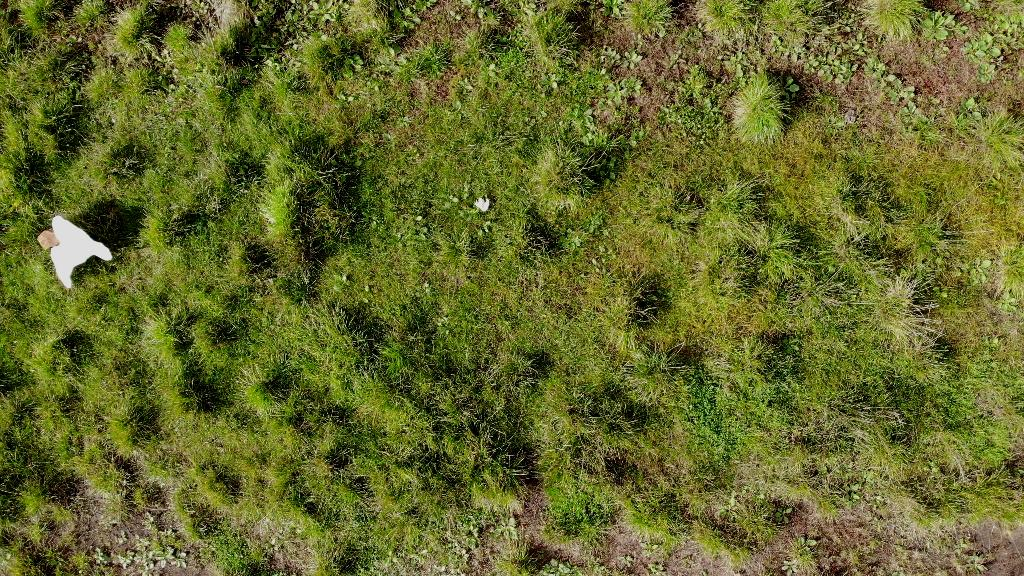garbage: (28, 215, 121, 289), (49, 215, 114, 290), (473, 197, 490, 212)
